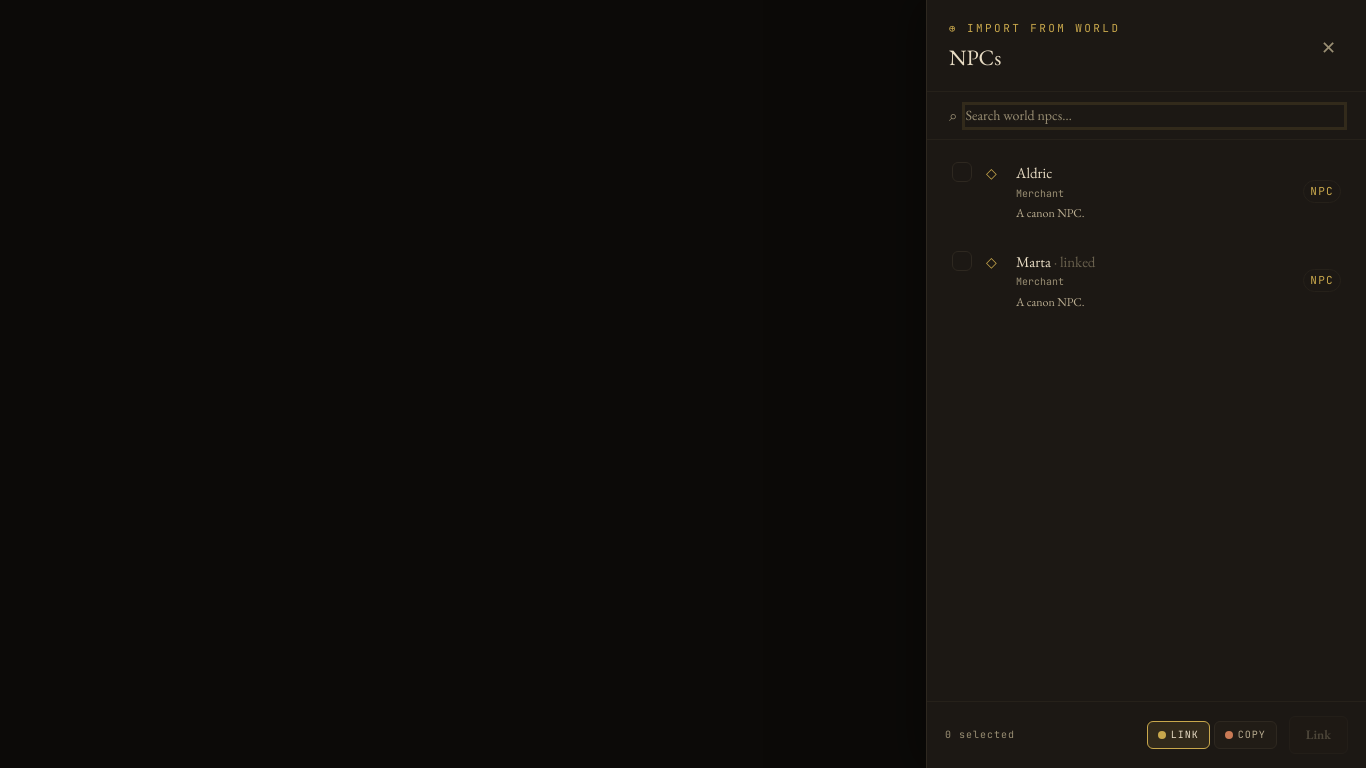
Test: WorldImportDrawer › clears the staged selection when closed (via the ✕)
The image size is (1366, 768).
Click the text "Aldric" at (1034, 173), box [1016, 163, 1052, 182]
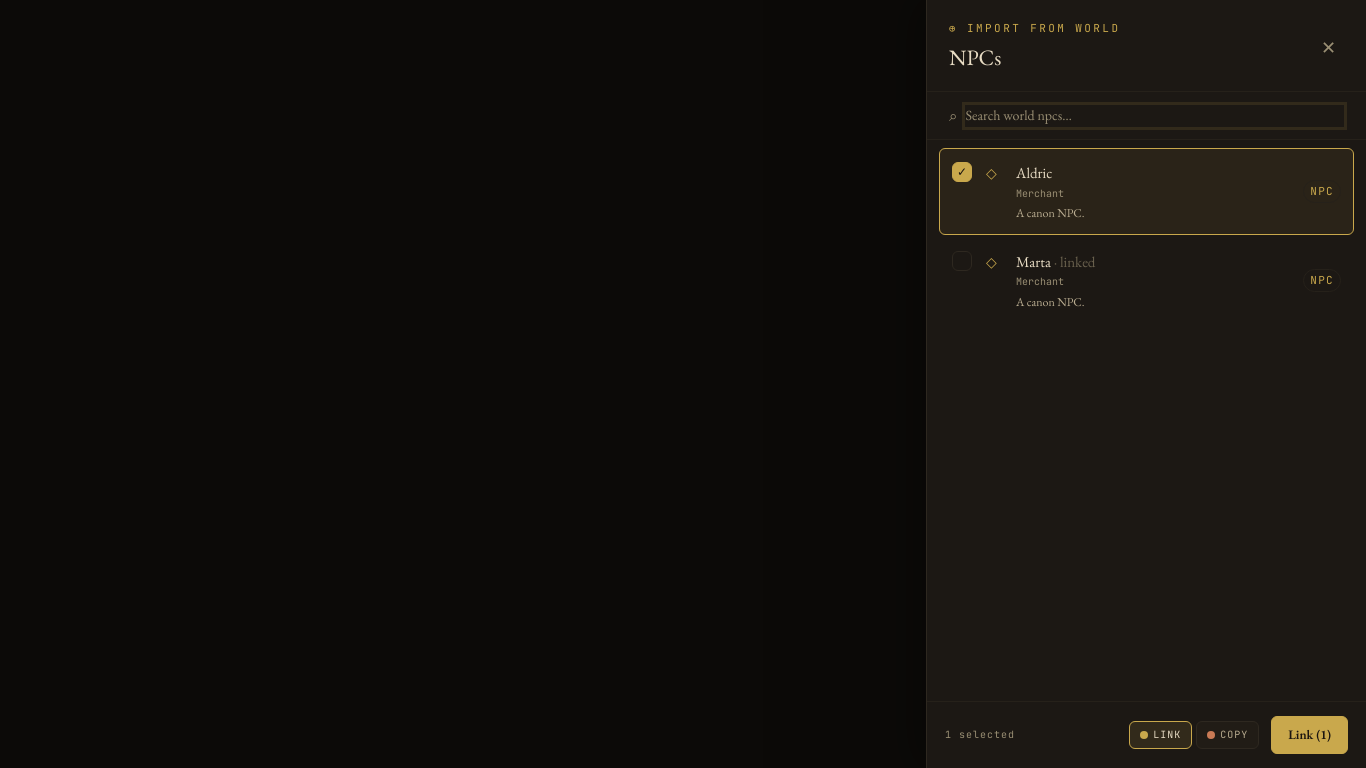
Expected: the text "1 selected" is shown, [945, 727, 1015, 743]
Click the button "✕" at (1328, 48), box [1313, 30, 1344, 66]
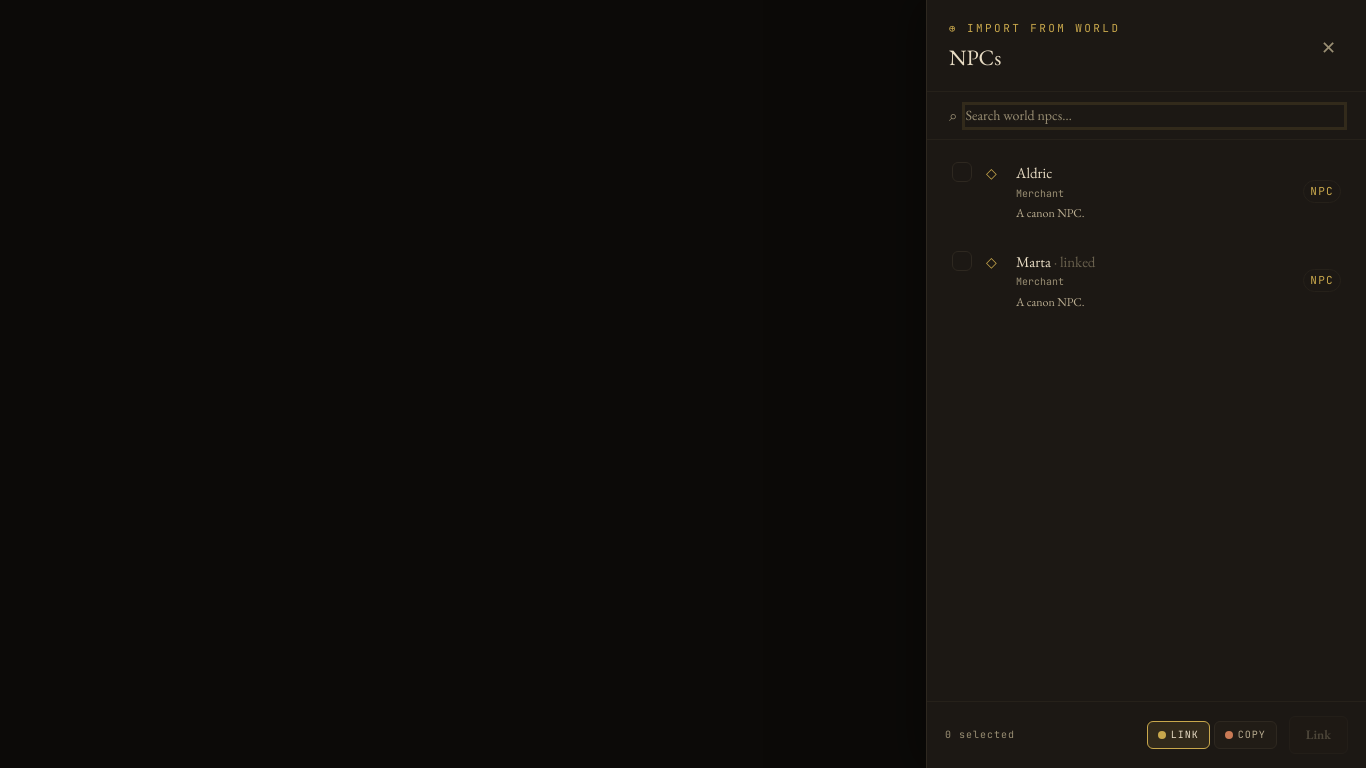
Expected: the text "0 selected" is shown, [945, 727, 1015, 743]
